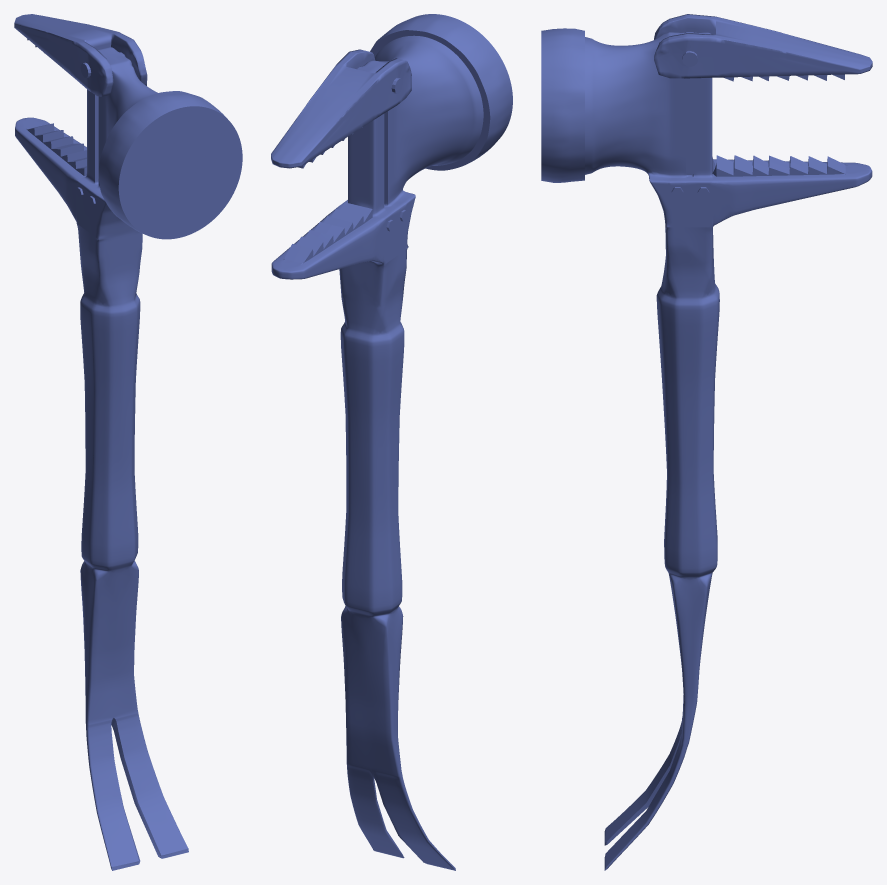
Rendered from lockpick-hipoly.fbx.
The picture shows the model from 3 angles, left to right: view 1: azimuth 30°, elevation 25°; view 2: azimuth 150°, elevation 25°; view 3: azimuth 270°, elevation 25°; orthographic projection. The views are drawn at different scales.
Parts seen in each view (by area): view 1: hi-poly-tool; view 2: hi-poly-tool; view 3: hi-poly-tool.
Boxes of the visible parts, x1,y1,x2,y2 form: hi-poly-tool: (14,14,242,870); hi-poly-tool: (271,14,512,870); hi-poly-tool: (541,14,872,870).
Size of the model in its own units: 15.51 by 92.33 by 33.56.
